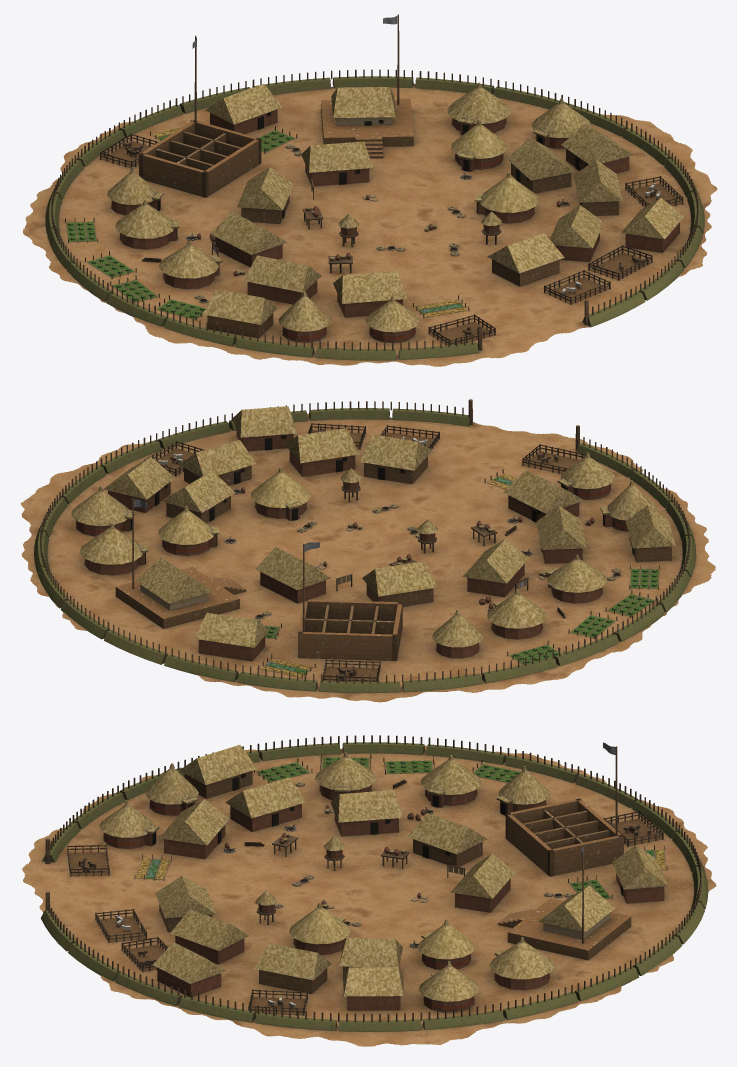
File: stone-town-big-a-indic.glb
The picture shows the model from 3 angles, top to bottom: view 1: azimuth 30°, elevation 25°; view 2: azimuth 150°, elevation 25°; view 3: azimuth 270°, elevation 25°; orthographic projection. The views are drawn at different scales.
Visible parts, largest first — view 1: LOD0; view 2: LOD0; view 3: LOD0.
Boxes of the visible parts, <box> form: LOD0: <box>23,14,717,366</box>; LOD0: <box>20,399,715,702</box>; LOD0: <box>22,735,716,1046</box>.
Size of what is drawn, in the model's own units: 8.01 by 1.4 by 7.74.
Materials: 3 (3 with a texture image).
